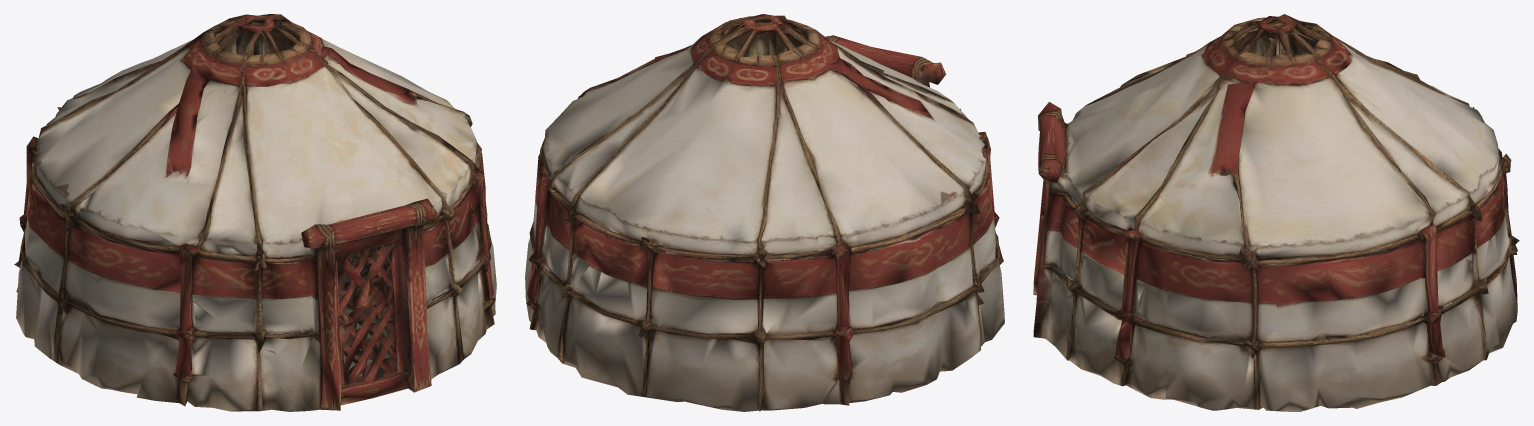
Rendered from Yurt.fbx.
3 views of the same model, side by side, from view 1: azimuth 30°, elevation 25°; view 2: azimuth 150°, elevation 25°; view 3: azimuth 270°, elevation 25° (orthographic).
Visible parts, largest first — view 1: Yurt_Body; view 2: Yurt_Body; view 3: Yurt_Body.
Part boxes in pixels (left/top/right/bottom): Yurt_Body: left=14, top=14, right=496, bottom=411; Yurt_Body: left=525, top=14, right=1004, bottom=411; Yurt_Body: left=1033, top=14, right=1519, bottom=411.
Bounding box in the file's own units: 1.5 × 1 × 1.51.
1 material, 1 textured.
